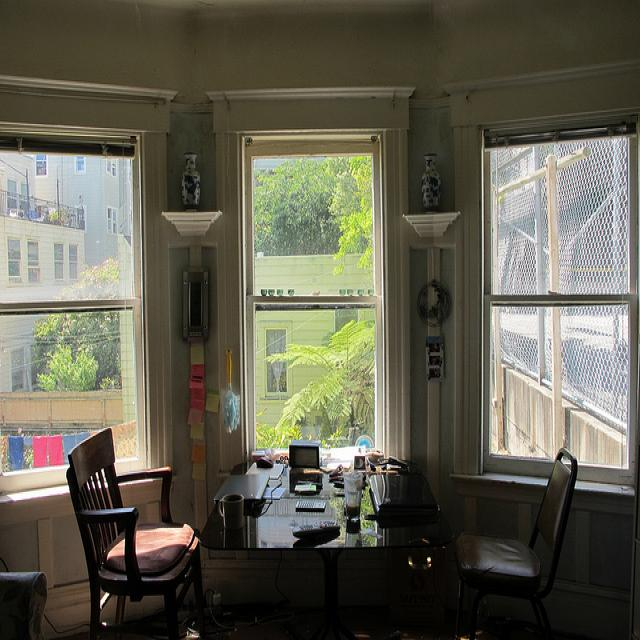chair: (70, 426, 205, 631), (455, 447, 579, 640)
dining table: (199, 457, 458, 628)
